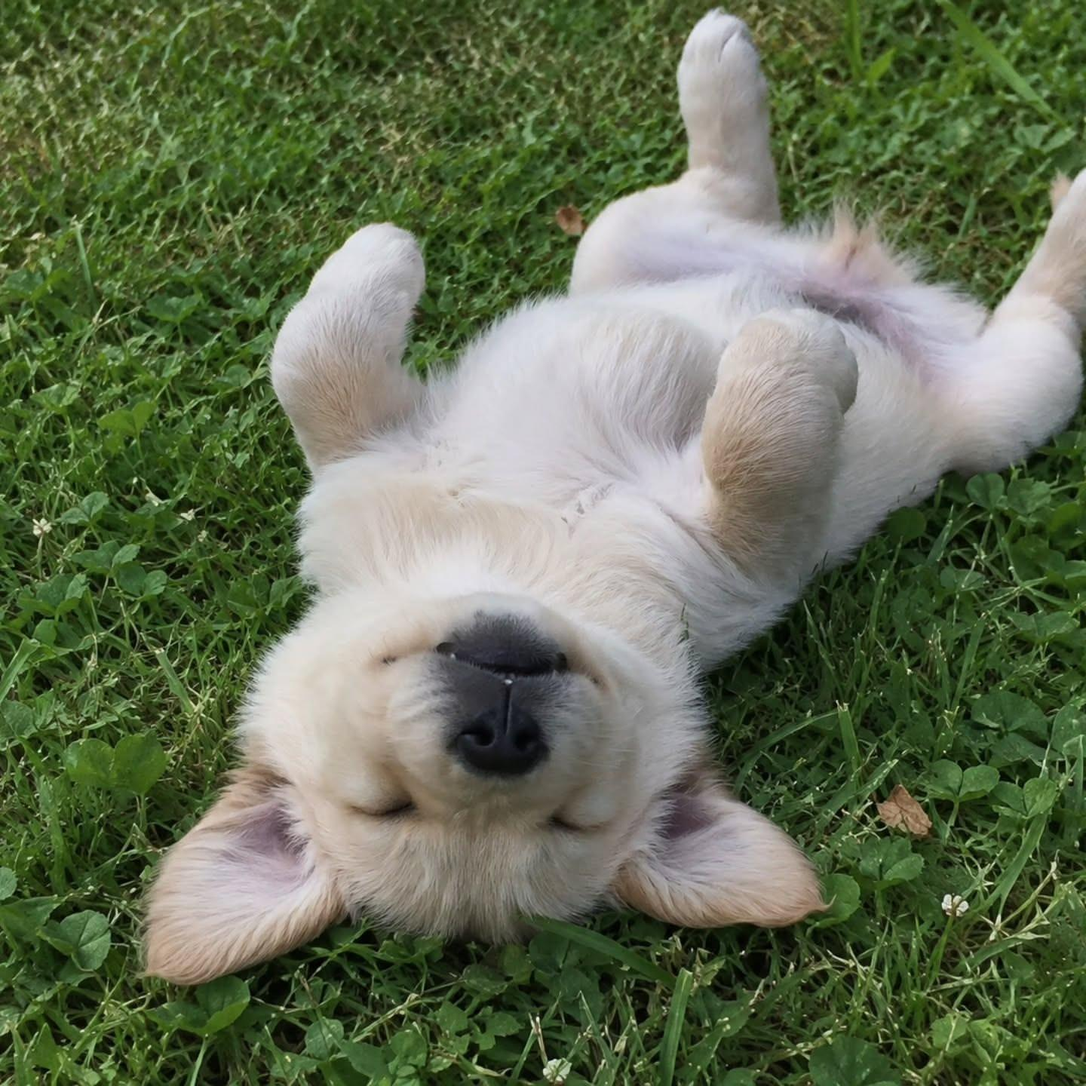puppy-dog: (134, 6, 1086, 987)
